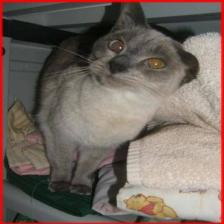cat: (84, 3, 209, 102)
